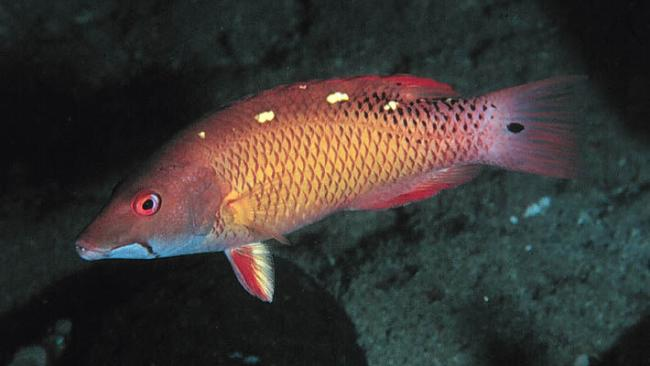fish: (76, 74, 582, 302)
